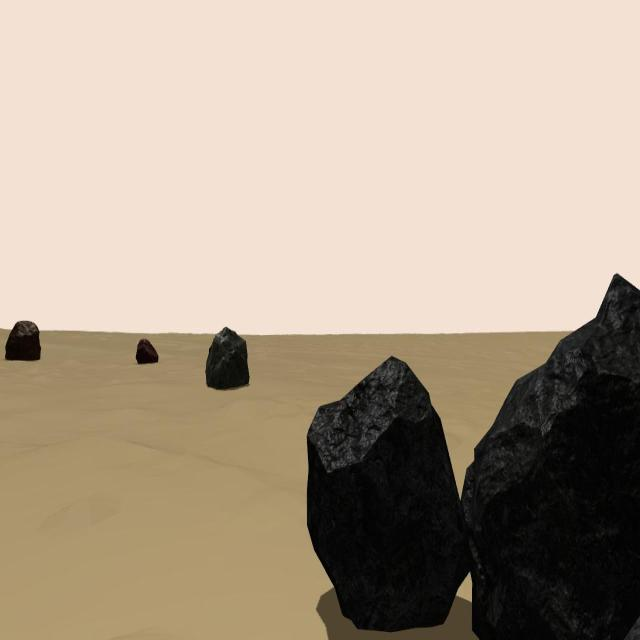rock: (459, 272, 640, 640), (306, 357, 470, 632), (205, 327, 250, 389), (5, 320, 41, 360), (135, 339, 158, 364)
